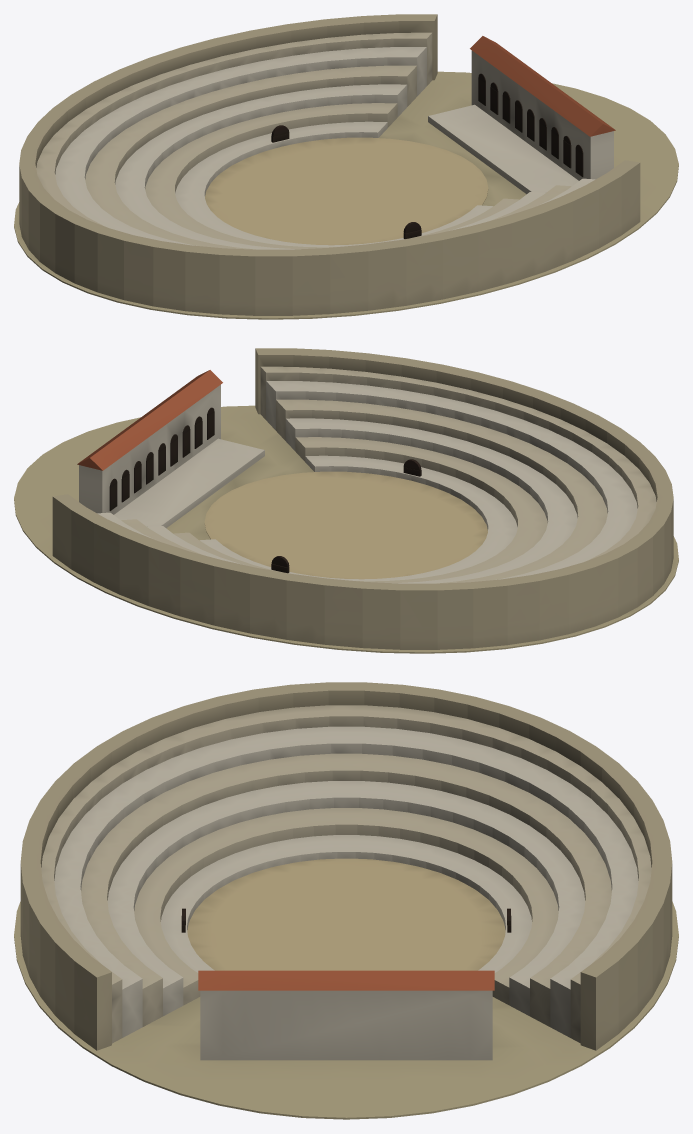
The model's file is arena.glb.
The picture shows the model from 3 angles, top to bottom: view 1: azimuth 30°, elevation 25°; view 2: azimuth 150°, elevation 25°; view 3: azimuth 270°, elevation 25°; orthographic projection. The views are drawn at different scales.
Parts seen in each view (by area): view 1: p1_cavea, p0_ground, p2_stage; view 2: p1_cavea, p0_ground, p2_stage; view 3: p1_cavea, p0_ground, p2_stage.
Boxes of the visible parts, x1,y1,x2,y2 form: p1_cavea: (19, 14, 640, 315); p0_ground: (14, 71, 678, 319); p2_stage: (271, 36, 615, 238); p1_cavea: (52, 348, 673, 649); p0_ground: (14, 405, 678, 653); p2_stage: (77, 370, 421, 573); p1_cavea: (20, 682, 672, 1050); p0_ground: (14, 858, 678, 1119); p2_stage: (181, 908, 511, 1060).
Bounding box in the file's own units: 130 × 14.05 × 100.
